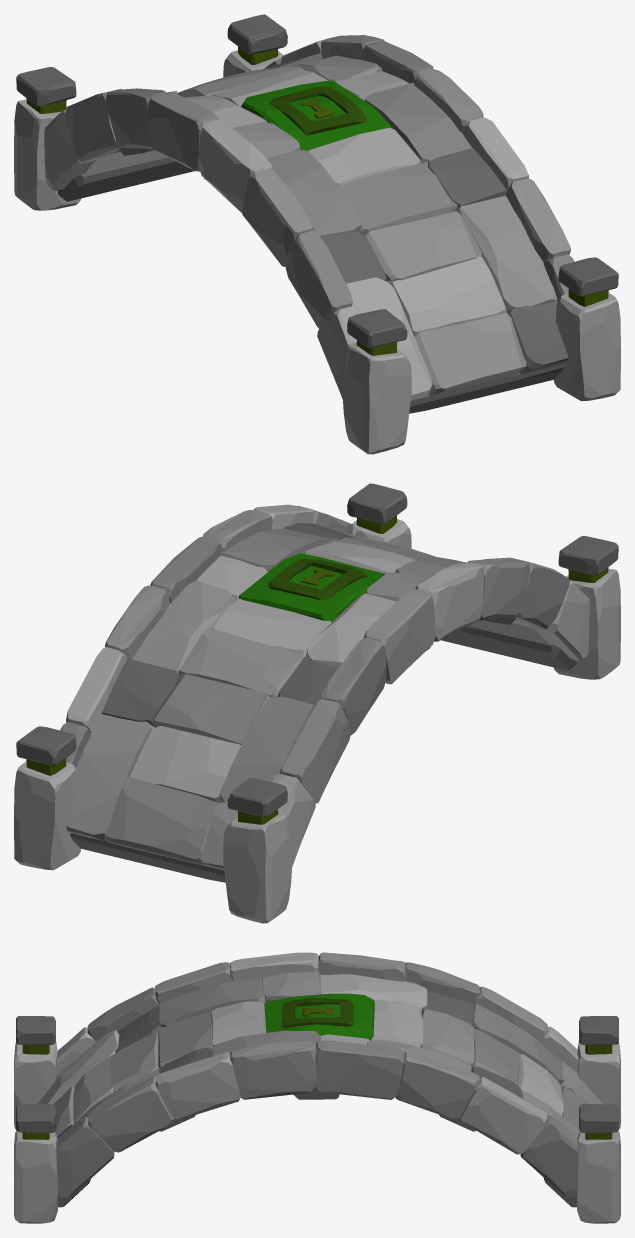
The model's file is Bridge05.fbx.
3 renders of one model, top to bottom at view 1: azimuth 30°, elevation 25°; view 2: azimuth 150°, elevation 25°; view 3: azimuth 270°, elevation 25°, orthographic. The views are drawn at different scales.
Parts seen in each view (by area): view 1: LOD0; view 2: LOD0; view 3: LOD0.
Boxes of the visible parts, <box> form: LOD0: <box>14,14,620,454</box>; LOD0: <box>14,483,620,923</box>; LOD0: <box>14,952,620,1223</box>.
Size of what is drawn, in the model's own units: 538 by 1305 by 407.
